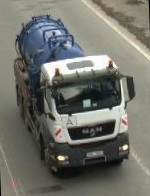truck: (14, 12, 139, 180)
